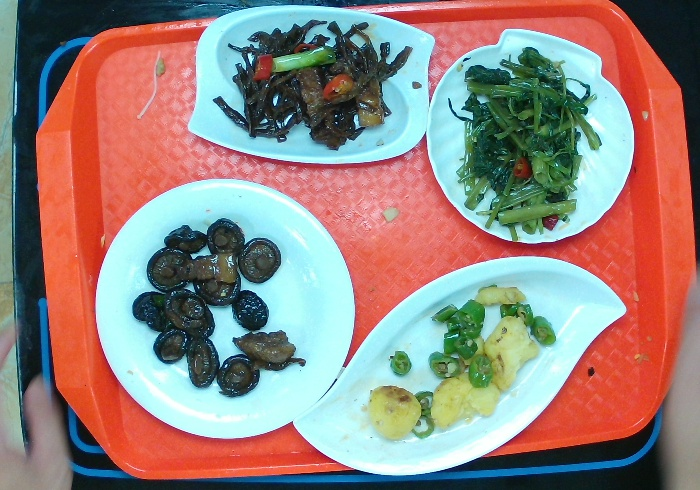RJxy-Bei_Ke_Wan: (422, 24, 642, 251)
RJxy-Jian_Jiao_Fang_Die: (183, 1, 442, 174)
RJxy-Jian_Jiao_Pan: (281, 252, 631, 481)
RJxy-Yuan_Pan: (88, 171, 361, 440)
